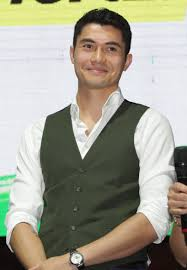asian_male: (65, 10, 136, 92)
